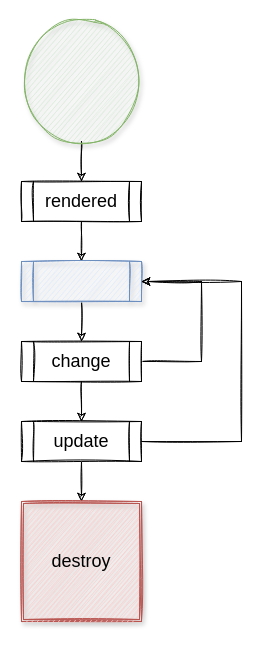
This 267x646 diagram has some shape labels left out. Here are the shapes that lost their labels. From the top down, the centre of each, then its label:
At point 82,82: "created".
At point 82,282: "view".
